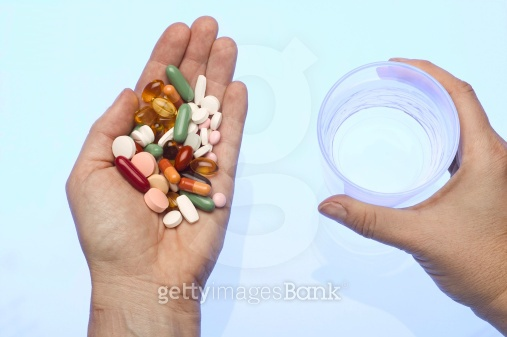glass of water: (314, 65, 459, 200)
